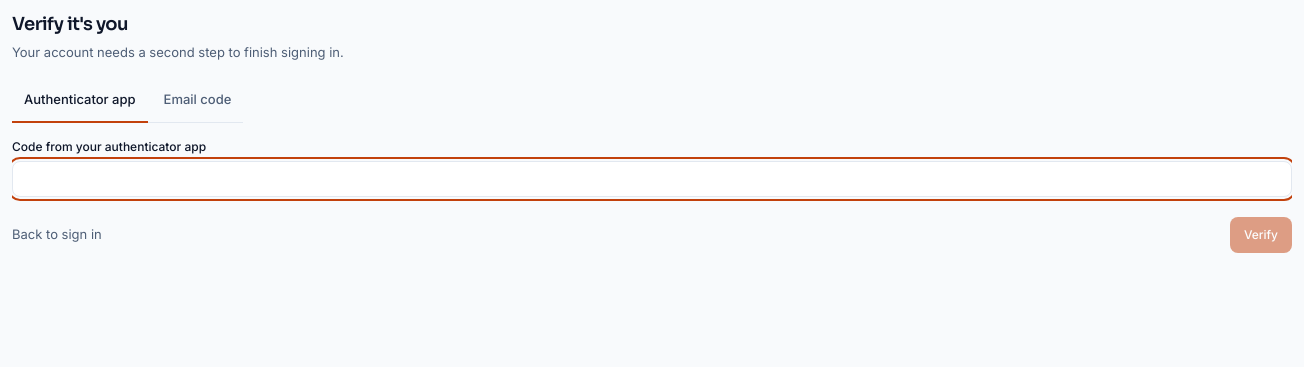
it: MfaVerifyForm › resets the code and any message when switching tabs
The image size is (1304, 367).
Step 1. Click the tab "Email code" → (198, 100), box [152,78,243,122]
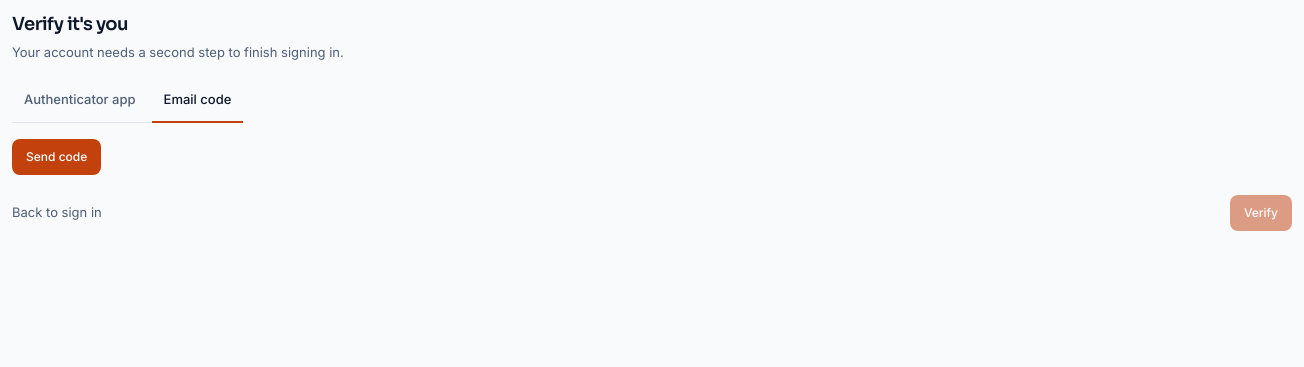
Step 2. Click the button "Send code" → (57, 157), box [12,139,101,175]
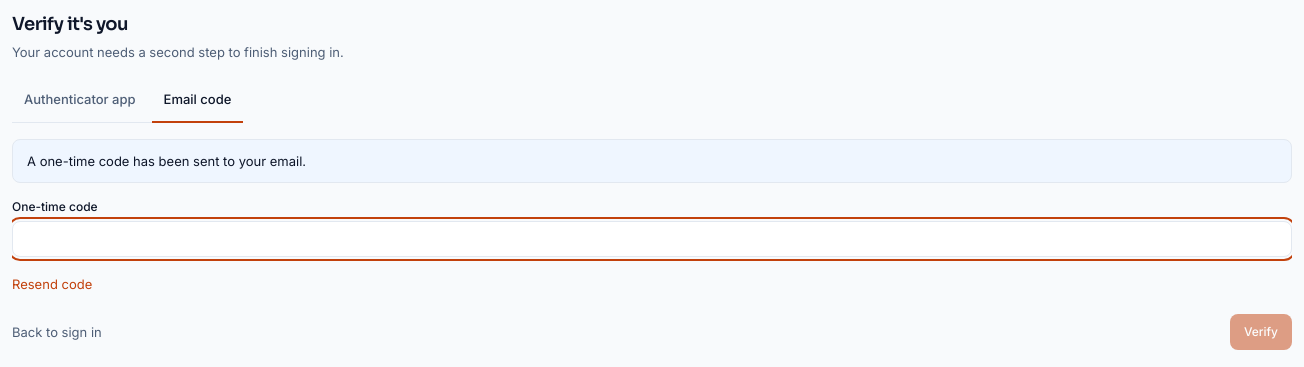
Result: the field labelled "One-time code" is shown at [12,221,1292,257]
Step 3. Click the tab "Authenticator app" → (80, 100), box [12,78,148,122]
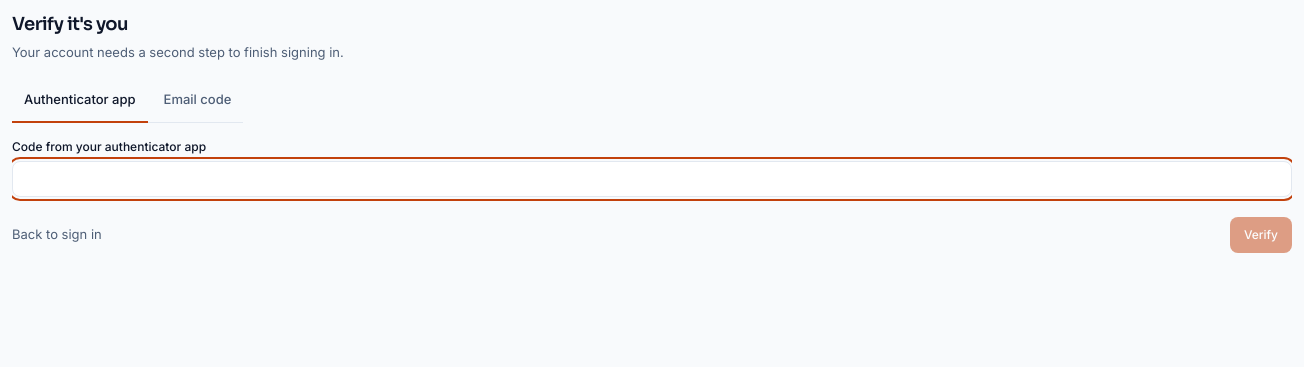
Result: the field labelled "Code from your authenticator app" is empty at [12,161,1292,197]
Result: the text "A one-time code has been sent to your email." is gone
